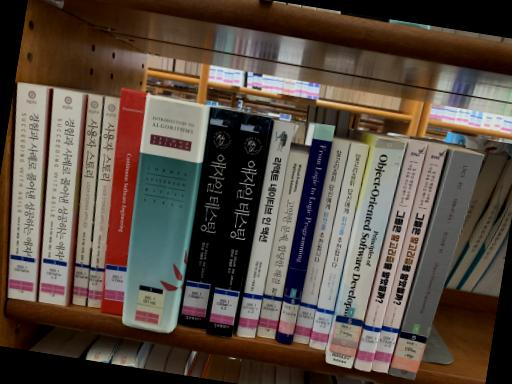book-spine: (389, 150, 483, 380), (122, 94, 208, 332), (326, 136, 406, 368), (371, 142, 447, 373), (354, 140, 426, 371), (205, 112, 272, 337), (178, 107, 241, 329), (276, 123, 335, 344), (235, 120, 294, 337), (308, 143, 369, 350), (292, 140, 349, 344), (99, 88, 148, 315), (38, 88, 83, 305), (257, 153, 308, 339), (6, 83, 46, 301), (87, 97, 119, 307), (72, 94, 102, 306)
